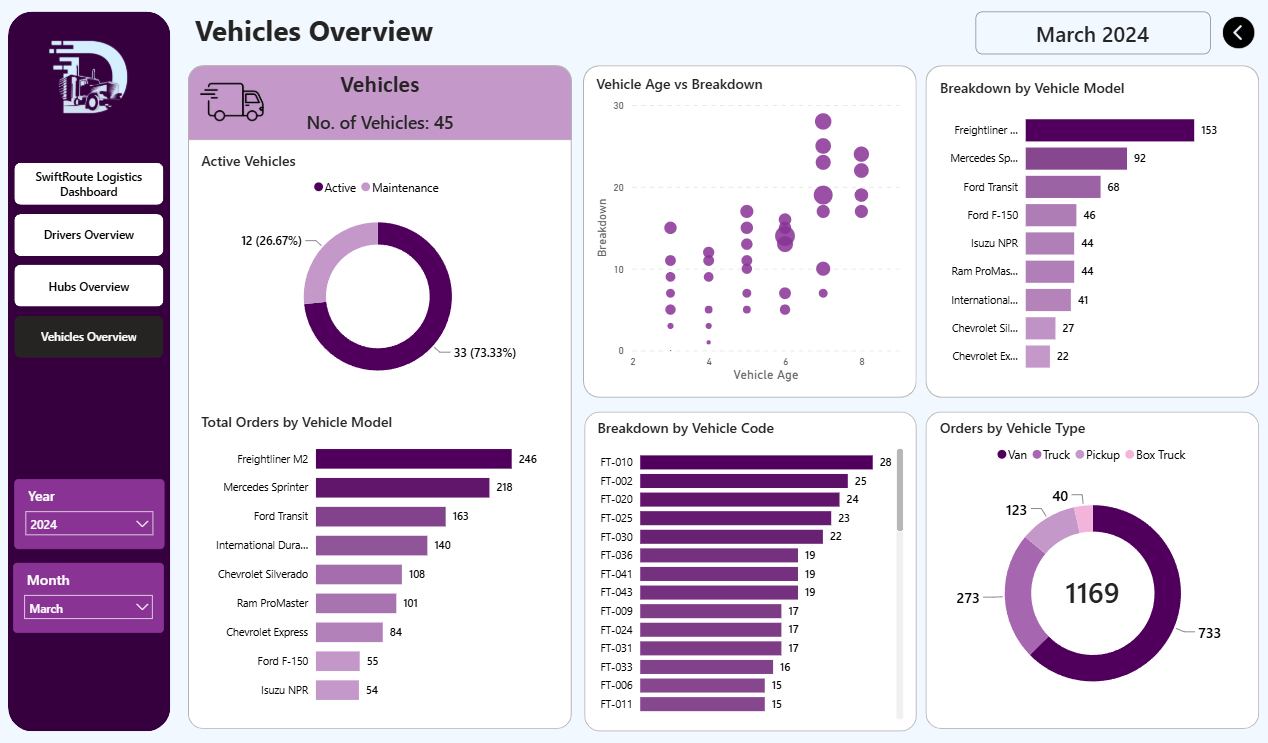

What the dashboard file says about the page in this screenshot:
{"tool":"powerbi","page":{"name":"Vehicles Overview","canvas":[1450,850],"ordinal":3},"visuals":[{"type":"shape","box":[11.4,14.2,185.2,820.4],"z":0},{"type":"textbox","box":[219.3,8.5,489.9,54.1],"z":1000},{"type":"slicer","fields":{"Values":["Date Table.Year"]},"box":[18.5,546.9,170.9,79.8],"z":2000},{"type":"slicer","fields":{"Values":["Date Table.MONTH"]},"box":[17.1,642.3,172.3,79.8],"z":3000},{"type":"cardVisual","fields":{"Data":["Orders.Year Month Title"]},"box":[1113.8,14.2,267.8,48.4],"z":4000},{"type":"shape","box":[666.6,75.5,380.3,378.9],"z":5000},{"type":"image","box":[1394.4,14.2,38.5,48.4],"z":6000},{"type":"shape","box":[216.5,75.5,437.3,756.3],"z":7000},{"type":"shape","box":[216.5,75.5,437.3,85.5],"z":8000},{"type":"textbox","box":[377.4,75.5,115.4,52.7],"z":9000},{"type":"cardVisual","fields":{"Data":["Vehicles.No. of Vehicles"]},"box":[331.9,118.2,207.9,42.7],"z":10000},{"type":"donutChart","title":"Active Vehicles","fields":{"Category":["Vehicles.Vehicle Status"],"Y":["CountNonNull(Vehicles.Vehicle ID)"]},"box":[226.5,172.3,413,282],"z":11000},{"type":"barChart","fields":{"Category":["Vehicles.Vehicle Model"],"Y":["Orders.Total Orders"]},"box":[226.5,470,413,347.5],"z":12000},{"type":"shape","box":[1056.8,75.5,380.3,378.9],"z":13000},{"type":"scatterChart","title":"Vehicle Age vs Breakdown","fields":{"Y":["Vehicles.Breakdown"],"X":["Vehicles.Vehicle Age"],"Size":["Sum(Vehicles.Breakdown)"]},"box":[676.5,85.5,358.9,356.1],"z":14000},{"type":"scatterChart","fields":{"Y":["Vehicles.Breakdown"],"X":["Vehicles.Vehicle Age"],"Size":["Sum(Vehicles.Breakdown)1"]},"box":[678,495.6,358.9,313.3],"z":15000},{"type":"shape","box":[668,470,378.9,364.6],"z":16000},{"type":"clusteredBarChart","fields":{"Y":["Sum(Vehicles.Breakdown)"],"Category":["Vehicles.Vehicle Code"]},"box":[678,477.1,358.9,348.9],"z":17000},{"type":"clusteredBarChart","fields":{"Y":["Sum(Vehicles.Breakdown)"],"Category":["Vehicles.Vehicle Model"]},"box":[1068.2,89.7,358.9,348.9],"z":18000},{"type":"shape","box":[1056.8,470,380.3,361.8],"z":19000},{"type":"donutChart","title":"Orders by Vehicle Type","fields":{"Category":["Orders.Vehicle Type"],"Y":["Orders.Total Orders"]},"box":[1068.2,477.1,358.9,348.9],"z":20000},{"type":"cardVisual","fields":{"Data":["Orders.Total Orders"]},"box":[1186.4,626.7,121.1,95.4],"z":21000},{"type":"pageNavigator","box":[18.5,186.6,170.9,222],"z":22000},{"type":"image","box":[39.9,38.5,128.2,108.2],"z":23000},{"type":"image","box":[226.5,79.8,79.8,75.5],"z":24000}]}

Visuals, with their boxes in screenshot pixels (x1, y1, x2, y2), scaled from the page's 1450x850 canvas onto the 1268x743 screenshot:
shape: {"x1": 10, "y1": 12, "x2": 172, "y2": 730}
textbox: {"x1": 192, "y1": 7, "x2": 620, "y2": 55}
slicer - Date Table.Year: {"x1": 16, "y1": 478, "x2": 166, "y2": 548}
slicer - Date Table.MONTH: {"x1": 15, "y1": 561, "x2": 166, "y2": 631}
cardVisual - Orders.Year Month Title: {"x1": 974, "y1": 12, "x2": 1208, "y2": 55}
shape: {"x1": 583, "y1": 66, "x2": 915, "y2": 397}
image: {"x1": 1219, "y1": 12, "x2": 1253, "y2": 55}
shape: {"x1": 189, "y1": 66, "x2": 572, "y2": 727}
shape: {"x1": 189, "y1": 66, "x2": 572, "y2": 141}
textbox: {"x1": 330, "y1": 66, "x2": 431, "y2": 112}
cardVisual - Vehicles.No. of Vehicles: {"x1": 290, "y1": 103, "x2": 472, "y2": 141}
"Active Vehicles" donutChart: {"x1": 198, "y1": 151, "x2": 559, "y2": 397}
barChart - Vehicles.Vehicle Model x Orders.Total Orders: {"x1": 198, "y1": 411, "x2": 559, "y2": 715}
shape: {"x1": 924, "y1": 66, "x2": 1257, "y2": 397}
"Vehicle Age vs Breakdown" scatterChart: {"x1": 592, "y1": 75, "x2": 905, "y2": 386}
scatterChart - Vehicles.Breakdown x Vehicles.Vehicle Age: {"x1": 593, "y1": 433, "x2": 907, "y2": 707}
shape: {"x1": 584, "y1": 411, "x2": 915, "y2": 730}
clusteredBarChart - Sum(Vehicles.Breakdown) x Vehicles.Vehicle Code: {"x1": 593, "y1": 417, "x2": 907, "y2": 722}
clusteredBarChart - Sum(Vehicles.Breakdown) x Vehicles.Vehicle Model: {"x1": 934, "y1": 78, "x2": 1248, "y2": 383}
shape: {"x1": 924, "y1": 411, "x2": 1257, "y2": 727}
"Orders by Vehicle Type" donutChart: {"x1": 934, "y1": 417, "x2": 1248, "y2": 722}
cardVisual - Orders.Total Orders: {"x1": 1037, "y1": 548, "x2": 1143, "y2": 631}
pageNavigator: {"x1": 16, "y1": 163, "x2": 166, "y2": 357}
image: {"x1": 35, "y1": 34, "x2": 147, "y2": 128}
image: {"x1": 198, "y1": 70, "x2": 268, "y2": 136}
